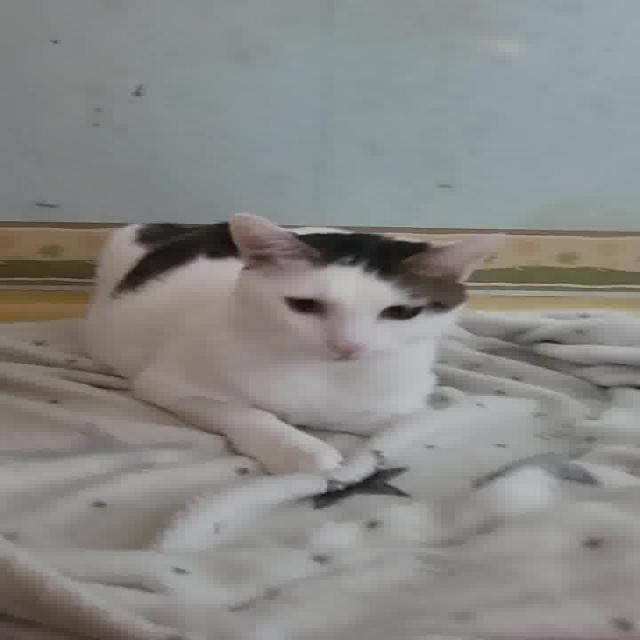cat: (86, 208, 518, 480)
